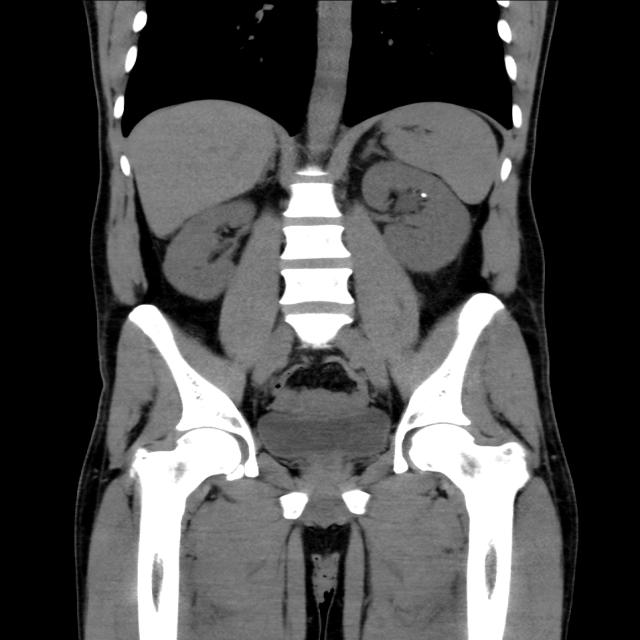kidneystone: (420, 191, 428, 199)
